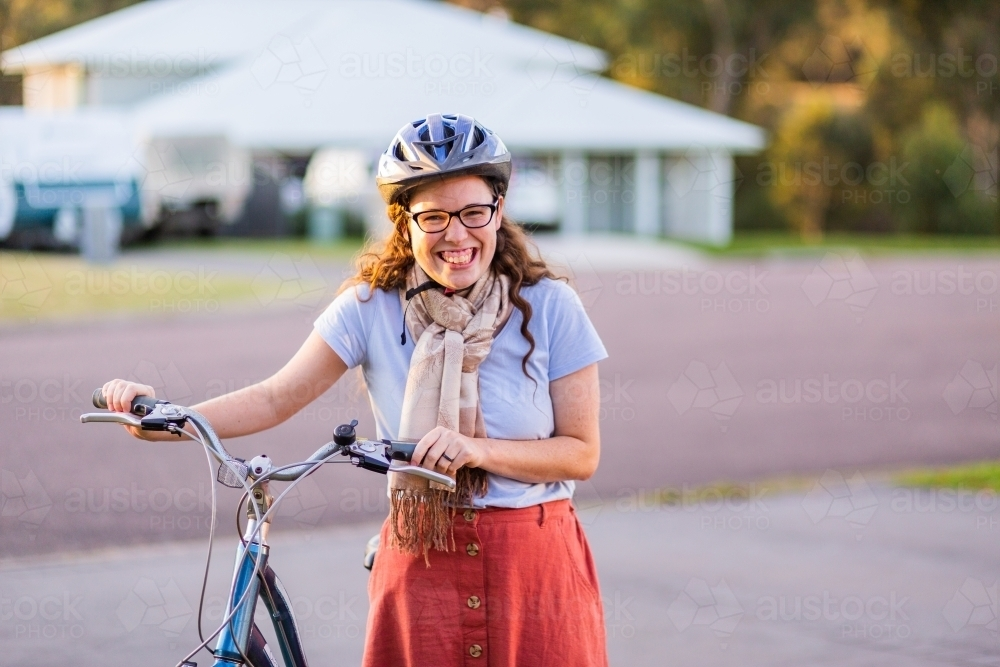helmet: (376, 114, 515, 290)
